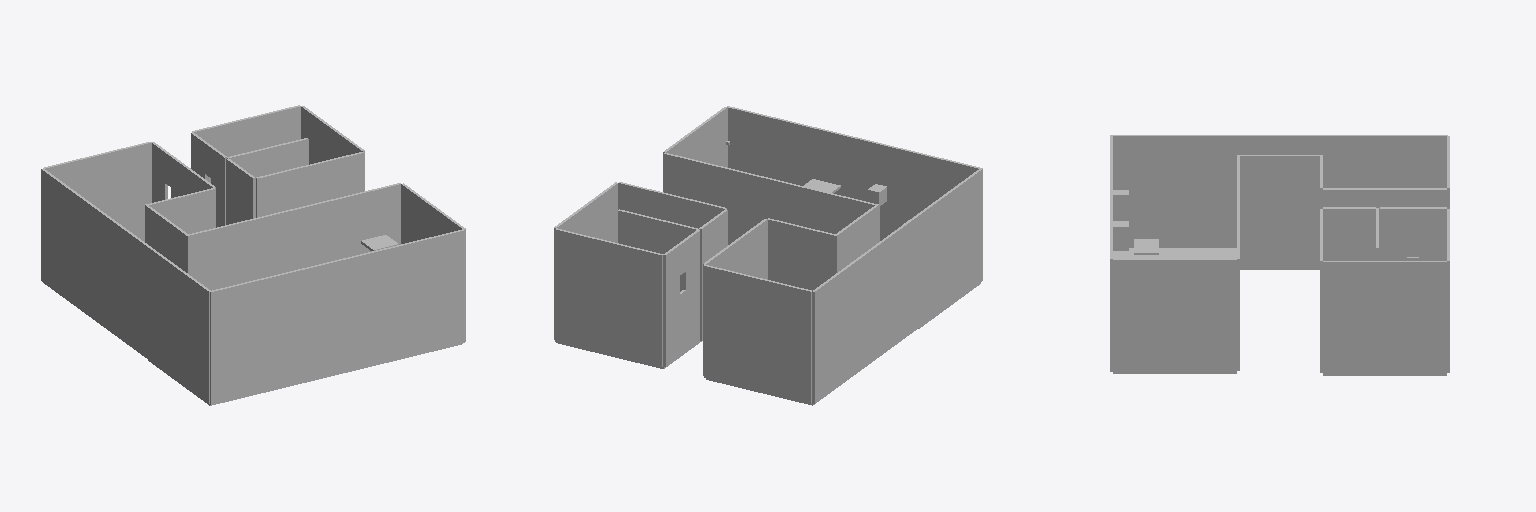
The model's file is test_level_1.obj.
The picture shows the model from 3 angles: view 1: azimuth 30°, elevation 25°; view 2: azimuth 150°, elevation 25°; view 3: azimuth 270°, elevation 25°; orthographic projection.
Parts seen in each view (by area): view 1: Cube.029_Cube.032, Cube.027_Cube.030, Cube.028_Cube.031, Cube.011, Cube.005, Cube.004, Cube.031_Cube.034, Cube.010, Cube.006, Cube.003, Cube.012_Cube.035, Cube.002 (+4 smaller); view 2: Cube.027_Cube.030, Cube.029_Cube.032, Cube.004, Cube.011, Cube.028_Cube.031, Cube.010, Cube.005, Cube.006, Cube.003, Cube.031_Cube.034, Cube.016, Cube.022_Cube.024 (+3 smaller); view 3: Cube.027_Cube.030, Cube.003, Cube.031_Cube.034, Cube.012_Cube.035, Cube.002, Cube.022_Cube.024, Cube.016, Cube.015, Cube.026_Cube.029, Cube.029_Cube.032, Cube.028_Cube.031, Cube.021_Cube.023.
Boxes of the visible parts, <box> form: Cube.029_Cube.032: <box>209,229,465,404</box>; Cube.027_Cube.030: <box>41,168,210,403</box>; Cube.028_Cube.031: <box>186,183,400,290</box>; Cube.011: <box>44,142,151,241</box>; Cube.005: <box>256,152,363,217</box>; Cube.004: <box>192,105,300,182</box>; Cube.031_Cube.034: <box>401,183,465,243</box>; Cube.010: <box>148,188,214,233</box>; Cube.006: <box>227,138,308,177</box>; Cube.003: <box>301,106,364,190</box>; Cube.012_Cube.035: <box>145,204,189,274</box>; Cube.002: <box>226,158,255,224</box>; Cube.027_Cube.030: <box>812,169,982,403</box>; Cube.029_Cube.032: <box>727,106,982,240</box>; Cube.004: <box>555,228,663,367</box>; Cube.011: <box>704,265,811,403</box>; Cube.028_Cube.031: <box>664,153,878,244</box>; Cube.010: <box>768,218,834,290</box>; Cube.005: <box>618,182,726,228</box>; Cube.006: <box>618,209,699,291</box>; Cube.003: <box>554,182,617,339</box>; Cube.031_Cube.034: <box>663,107,727,191</box>; Cube.016: <box>663,244,679,366</box>; Cube.022_Cube.024: <box>723,219,767,279</box>; Cube.027_Cube.030: <box>1113,135,1447,247</box>; Cube.003: <box>1323,261,1446,374</box>; Cube.031_Cube.034: <box>1113,259,1236,371</box>; Cube.012_Cube.035: <box>1240,155,1322,267</box>; Cube.002: <box>1323,207,1375,260</box>; Cube.022_Cube.024: <box>1323,188,1406,260</box>; Cube.016: <box>1419,207,1446,260</box>; Cube.015: <box>1380,207,1406,260</box>; Cube.026_Cube.029: <box>1113,248,1236,373</box>; Cube.029_Cube.032: <box>1110,135,1112,371</box>; Cube.028_Cube.031: <box>1237,155,1239,370</box>; Cube.021_Cube.023: <box>1419,188,1446,206</box>.
Bounding box in the file's own units: 97.66 × 41 × 110.